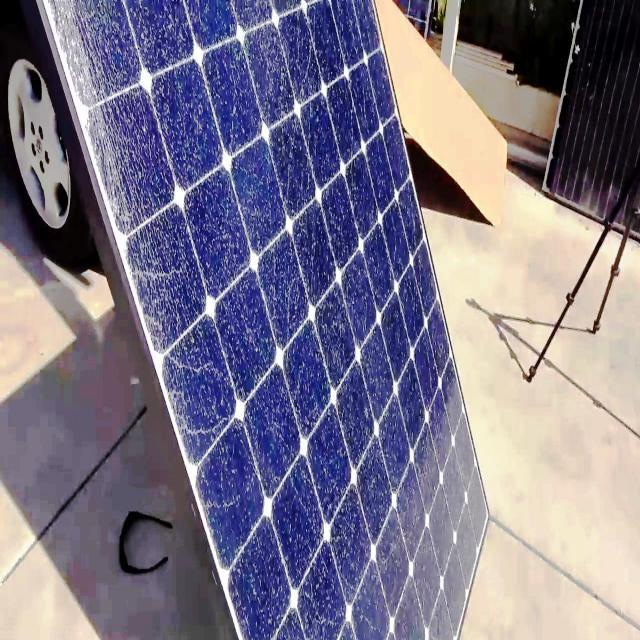faulty: (41, 3, 492, 639)
